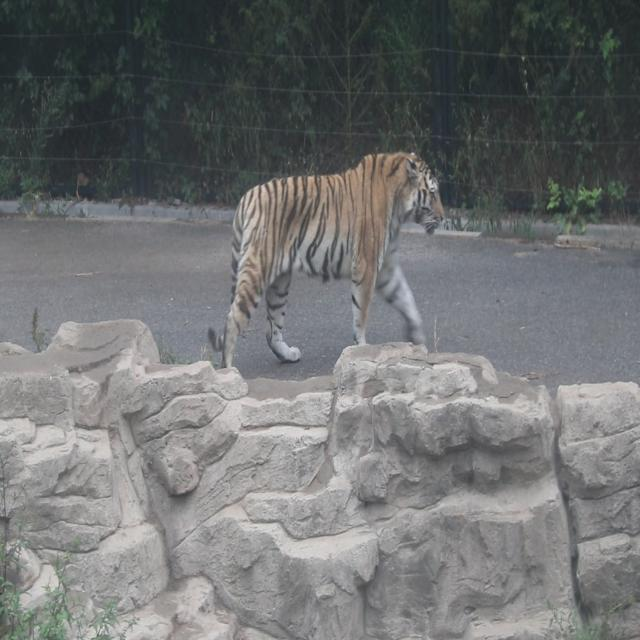Tiger: (204, 116, 464, 398)
